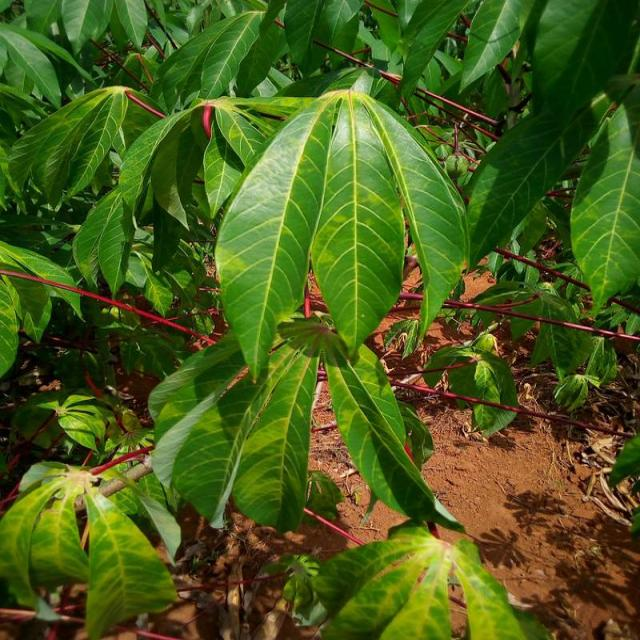Mosaico: (142, 278, 446, 495), (246, 67, 461, 303), (0, 402, 180, 617), (330, 526, 564, 640)
